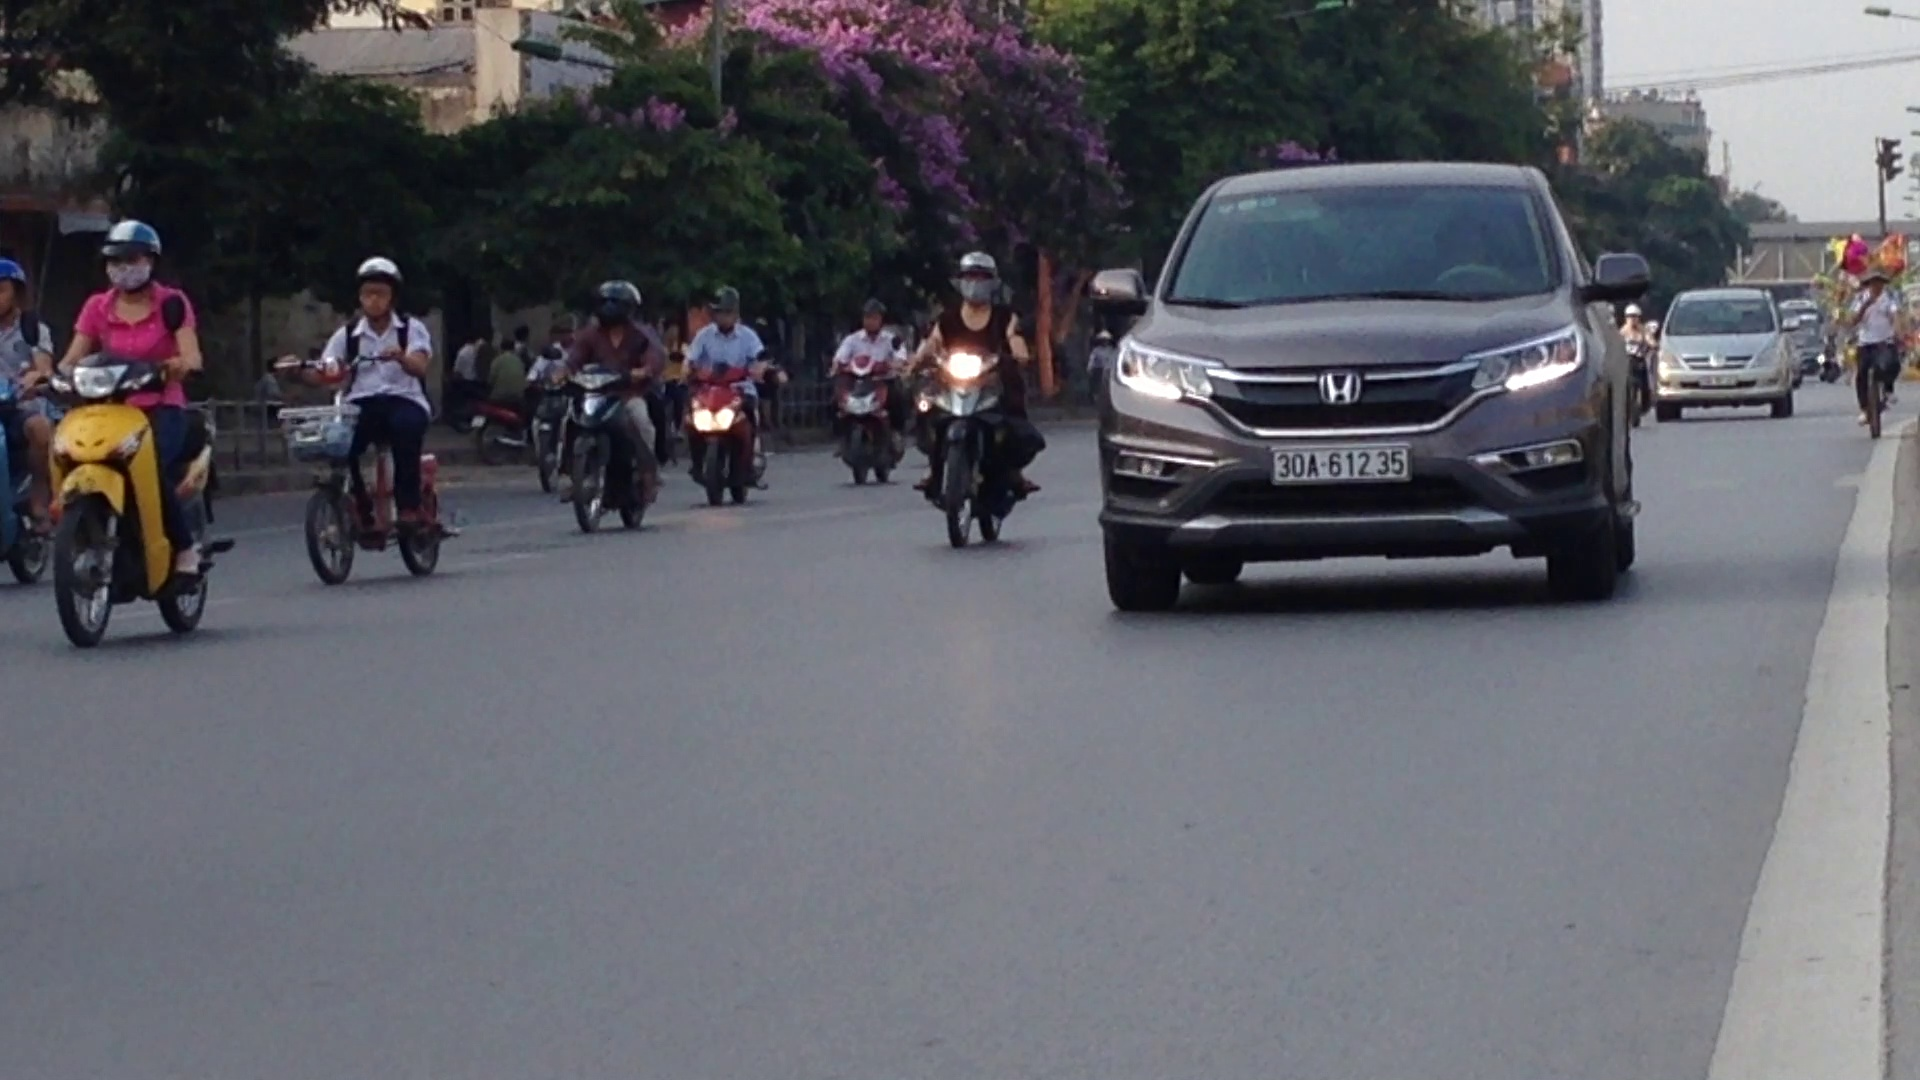vehicle-plate: (1266, 439, 1416, 486)
